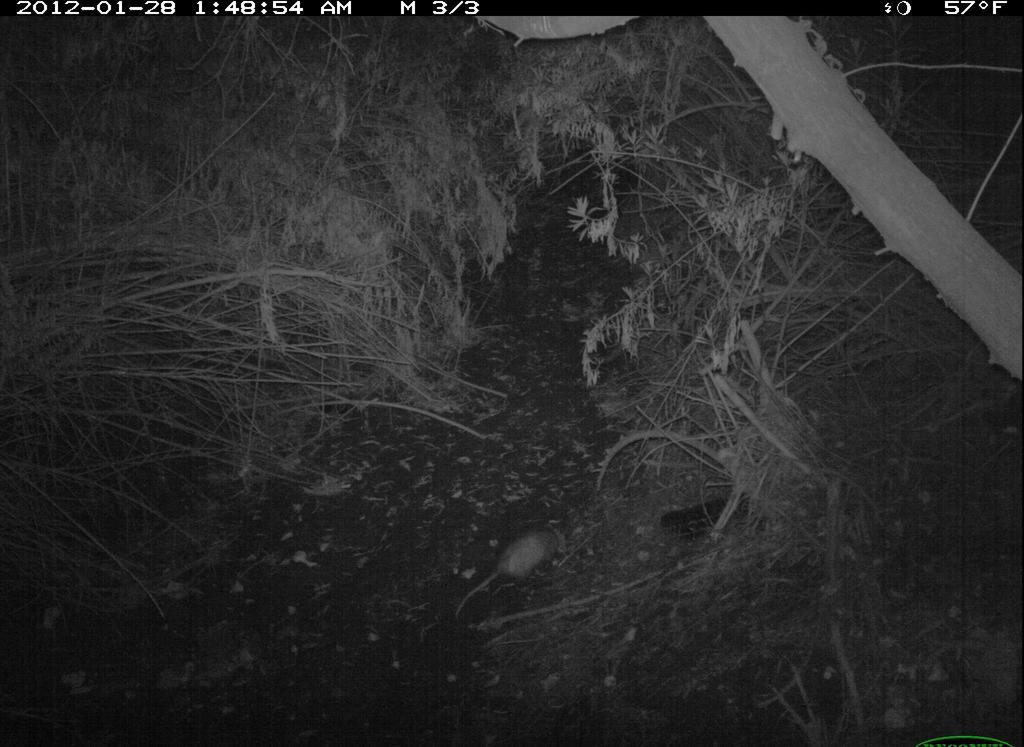opossum: (445, 514, 574, 620)
